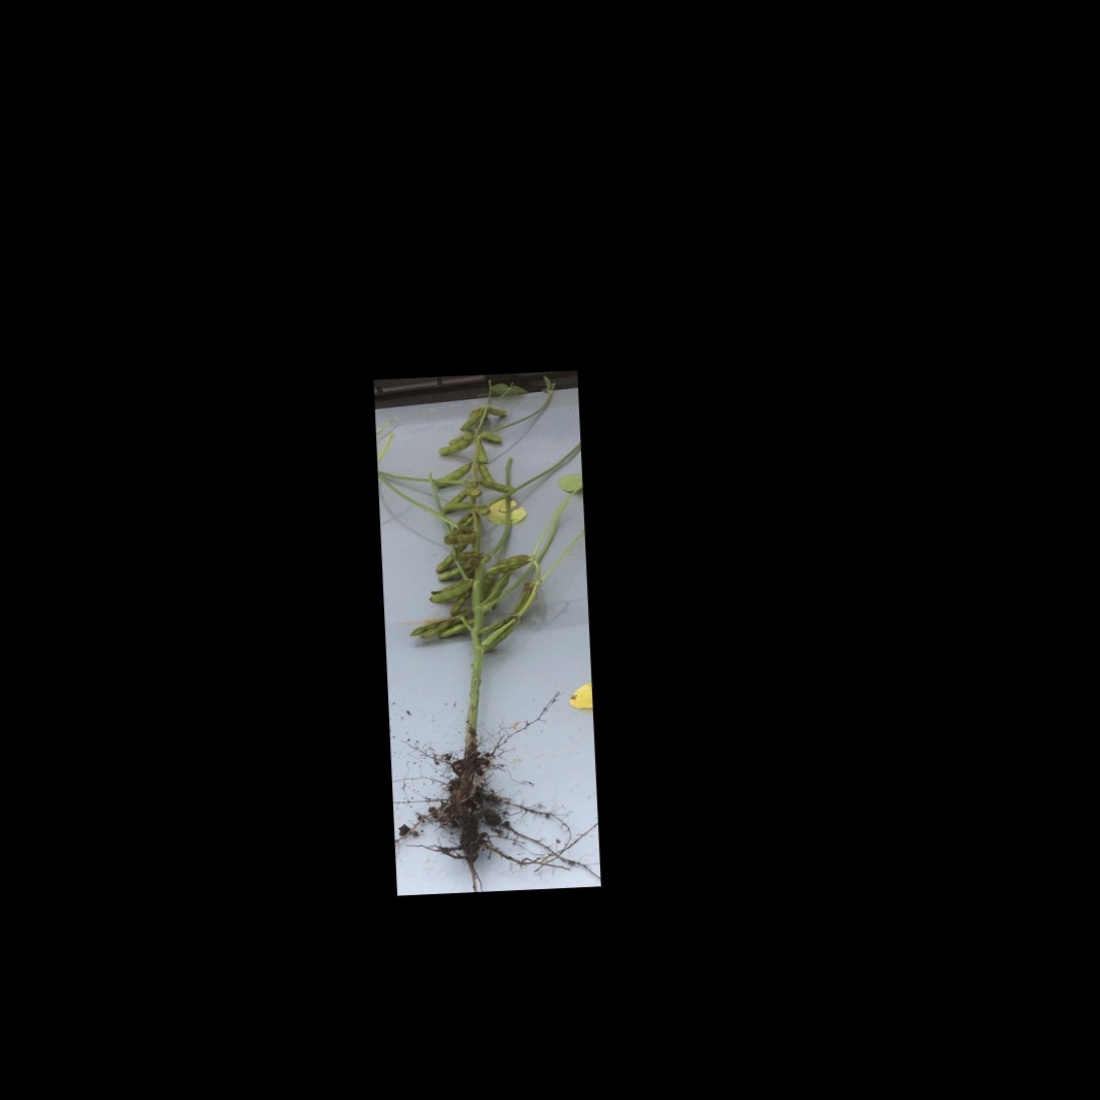pod: (430, 460, 476, 488), (436, 435, 478, 455), (448, 588, 474, 618), (437, 618, 475, 639), (476, 477, 517, 495), (458, 408, 486, 432), (478, 426, 505, 445), (485, 403, 511, 418), (478, 462, 495, 484), (476, 443, 489, 464)
soy: (384, 377, 584, 873)
